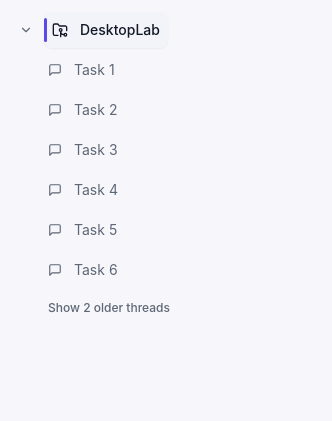
keeps long thread histories scannable without hiding access to older threads
Check: the text "Task 6" is shown, box [74,260,118,280]
Check: the text "Task 7" is not shown
Click the button "Show 2 older threads" at (109, 308), box [40,292,178,324]
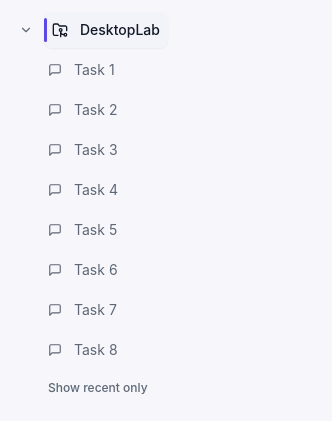
Check: the text "Task 8" is shown, box [74,340,118,360]
Click the button "Show recent only" at (98, 388), box [40,372,156,404]
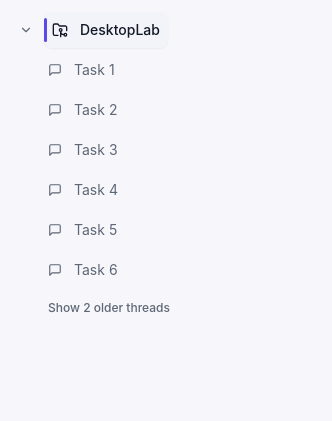
Check: the button "Task 8" is gone
